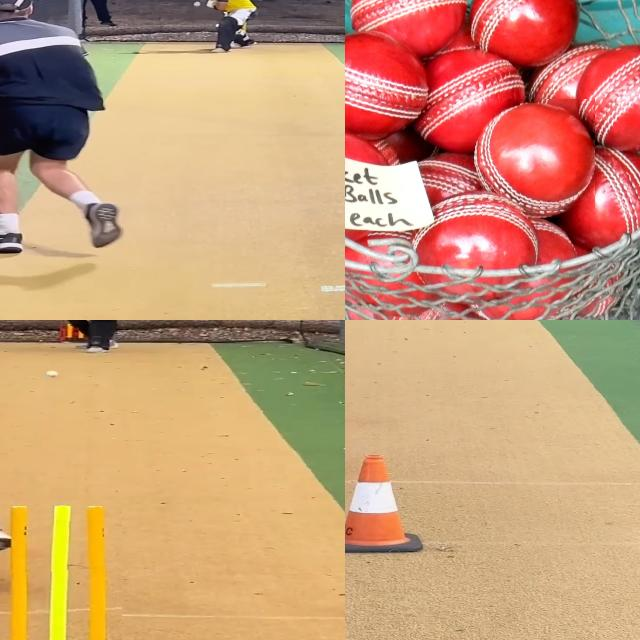Cricket ball: (471, 99, 595, 215), (345, 31, 434, 137), (464, 0, 582, 63), (46, 370, 59, 378), (193, 1, 202, 7)
Stumps: (0, 506, 121, 640)
